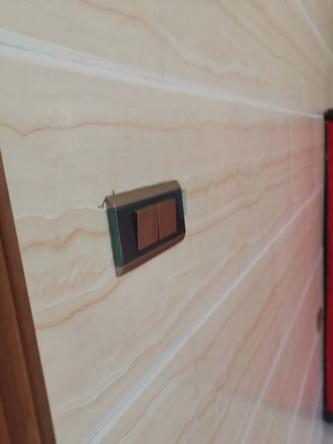switch: (131, 202, 163, 252), (154, 195, 181, 241)
